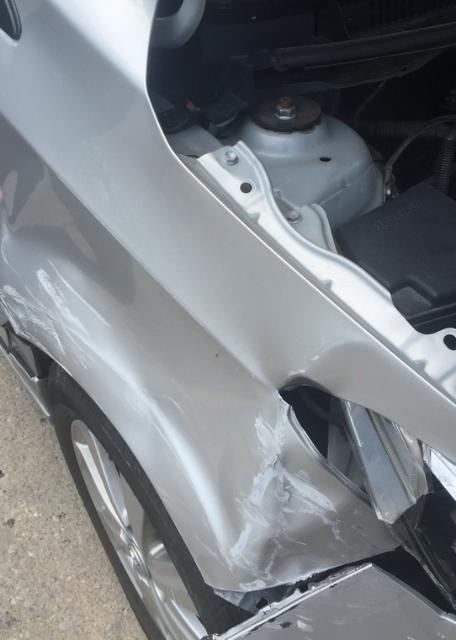Bumper: (213, 563, 456, 640)
Fender: (161, 386, 400, 600)
